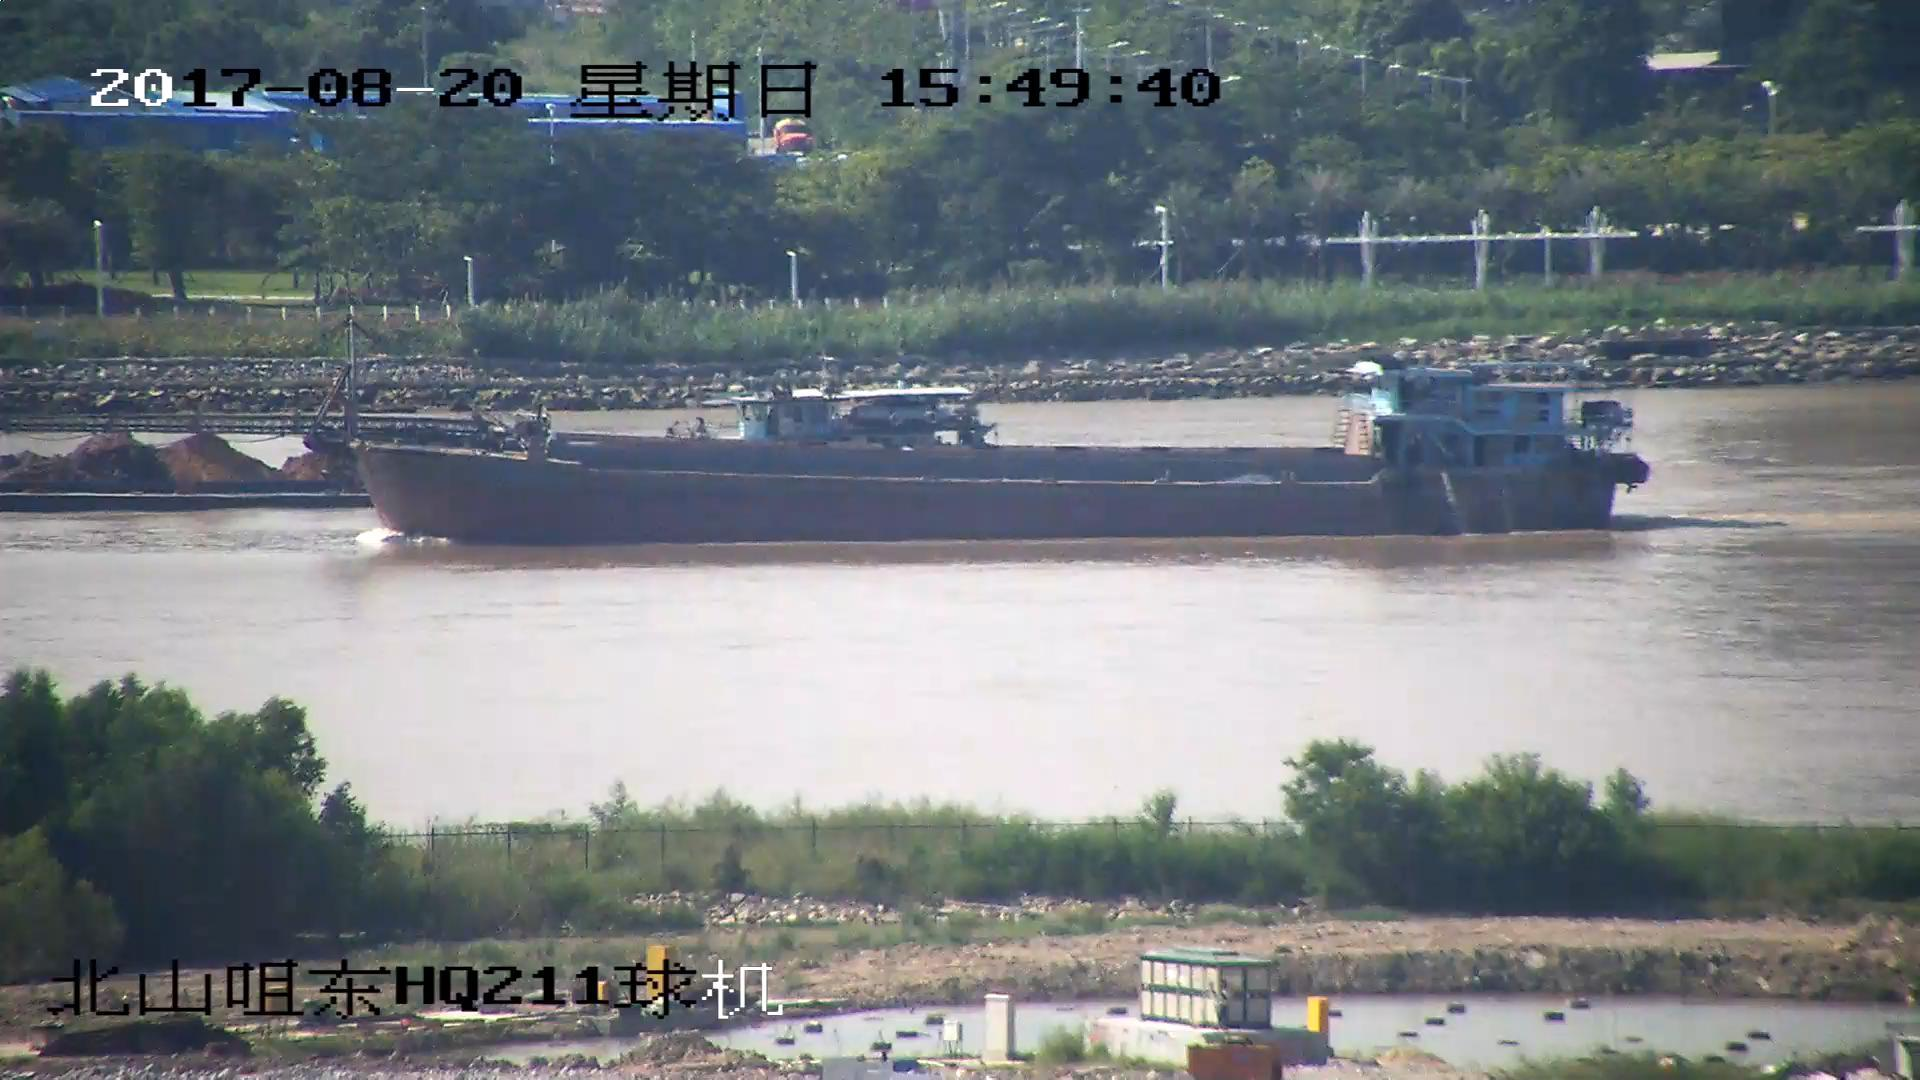Ship: (3, 349, 1636, 545), (3, 392, 996, 513)
